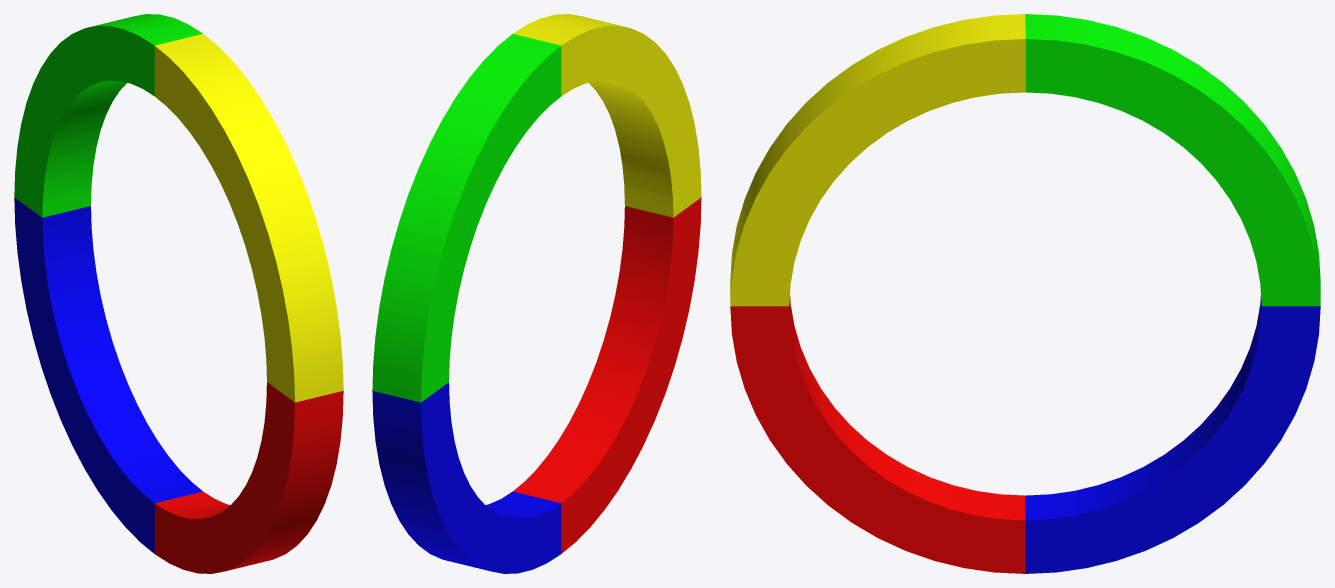
The picture shows the model from 3 angles, left to right: view 1: azimuth 30°, elevation 25°; view 2: azimuth 150°, elevation 25°; view 3: azimuth 270°, elevation 25°; orthographic projection. The views are drawn at different scales.
Visible parts, largest first — view 1: Torus2, Torus4, Torus1, Torus3; view 2: Torus3, Torus1, Torus4, Torus2; view 3: Torus2, Torus3, Torus4, Torus1.
Part boxes in pixels (x1,y1,x2,y2): Torus2: (154, 34, 343, 402); Torus4: (14, 197, 202, 553); Torus1: (154, 382, 343, 573); Torus3: (14, 14, 202, 217); Torus3: (372, 34, 561, 402); Torus1: (513, 197, 701, 553); Torus4: (372, 382, 561, 573); Torus2: (513, 14, 701, 217); Torus2: (730, 14, 1025, 306); Torus3: (1025, 14, 1320, 306); Torus4: (1025, 295, 1320, 573); Torus1: (730, 296, 1025, 573).
Size of the model in its own units: 20.04 by 200 by 200.
